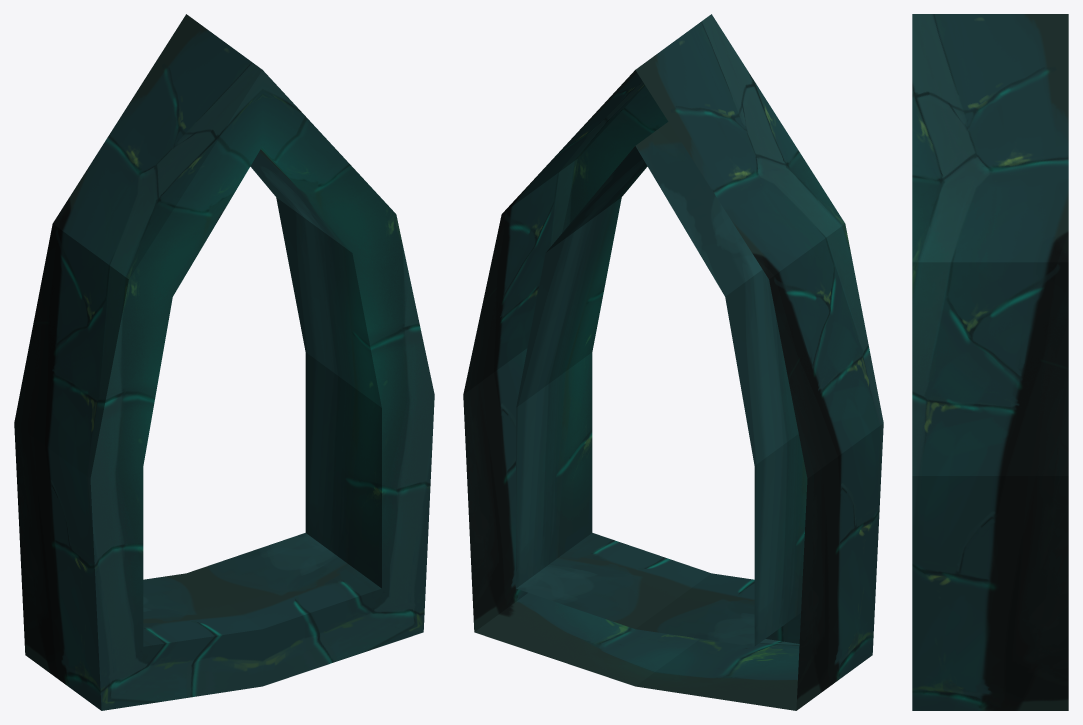
File: window_MESH.fbx
The picture shows the model from 3 angles, left to right: view 1: azimuth 30°, elevation 25°; view 2: azimuth 150°, elevation 25°; view 3: azimuth 270°, elevation 25°; orthographic projection. The views are drawn at different scales.
Visible parts, largest first — view 1: window_MESH; view 2: window_MESH; view 3: window_MESH.
Boxes of the visible parts, x1,y1,x2,y2 form: window_MESH: [14, 14, 434, 710]; window_MESH: [463, 14, 883, 710]; window_MESH: [912, 14, 1068, 710].
Bounding box in the file's own units: 1.17 × 2 × 0.4495.
